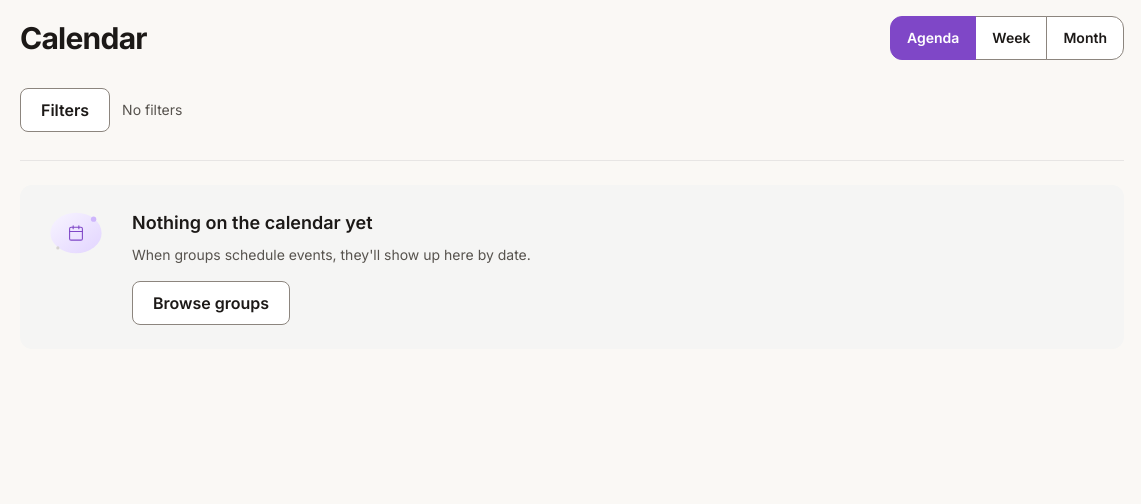
filter chips (DEC-99) › keeps Just mine and, for admins, Show deleted events
Click the button "Filters" at (65, 110), box [20,88,110,132]
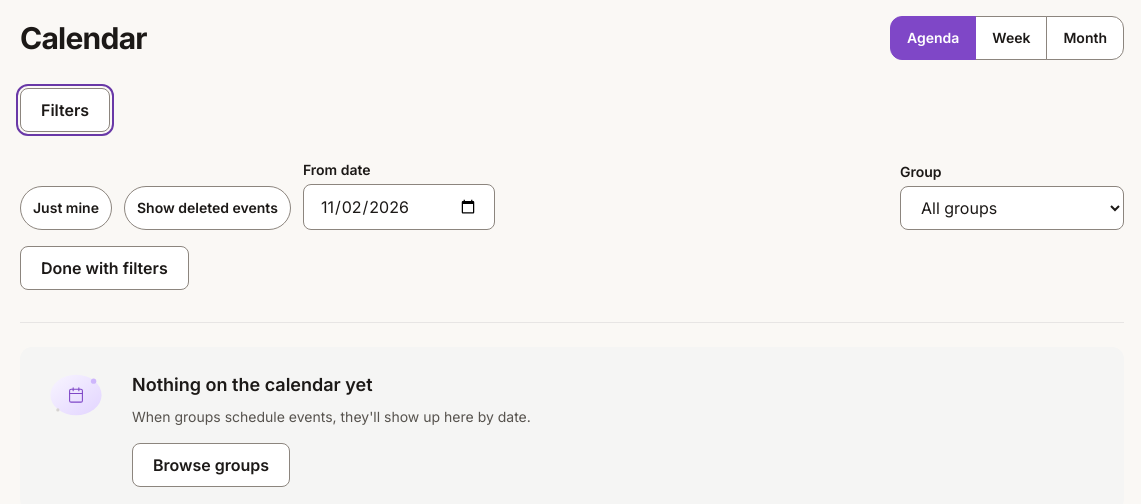
Expected: the button "Just mine" is shown, [20,186,112,230]
Expected: the button "Show deleted events" is shown, [124,186,291,230]
